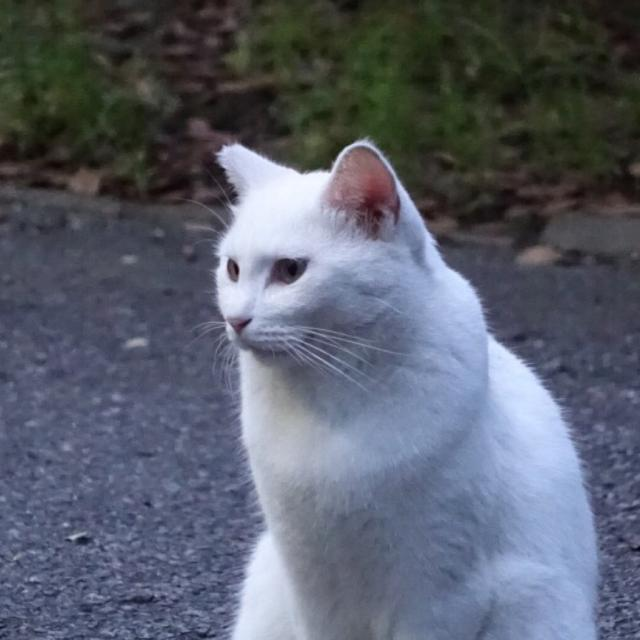Cat: (161, 132, 600, 640)
